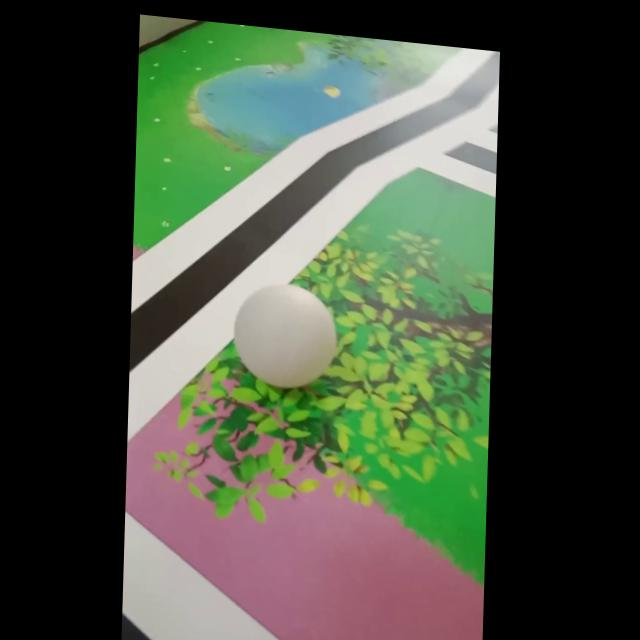white ball: (231, 277, 339, 394)
